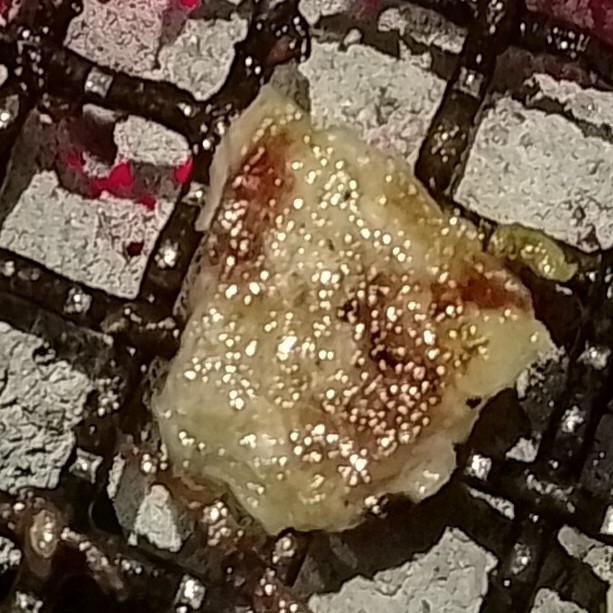Overcooked: (144, 114, 554, 544)
